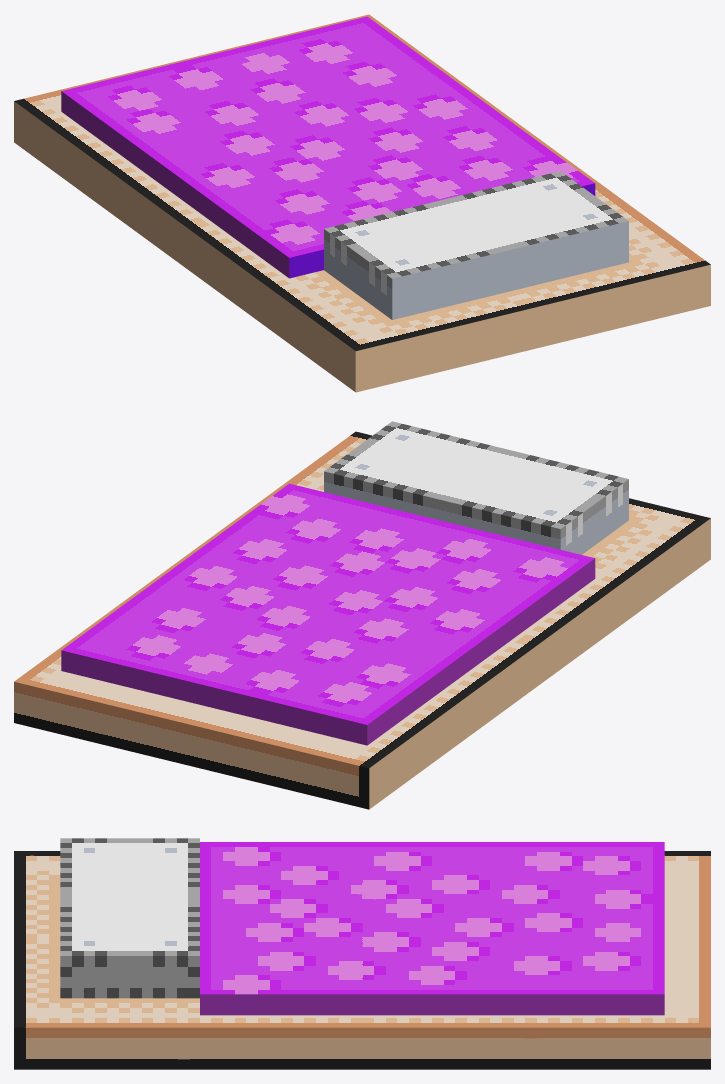
File: bed.gltf
3 views of the same model, one above another, from view 1: azimuth 30°, elevation 25°; view 2: azimuth 150°, elevation 25°; view 3: azimuth 270°, elevation 25° (orthographic).
Visible parts, largest first — view 1: cuboid (×3); view 2: cuboid (×3); view 3: cuboid (×3).
Boxes of the visible parts, x1,y1,x2,y2 form: cuboid (×3): (14,14,710,392); cuboid (×3): (14,421,710,809); cuboid (×3): (14,838,710,1069).
Size of the model in its own units: 1.12 by 0.25 by 1.88.
Materials: 1 (1 with a texture image).
